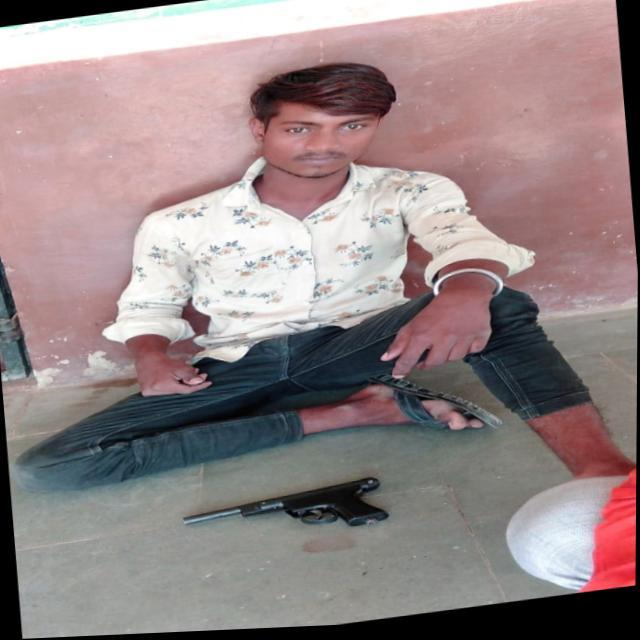weapon: (176, 474, 399, 556)
